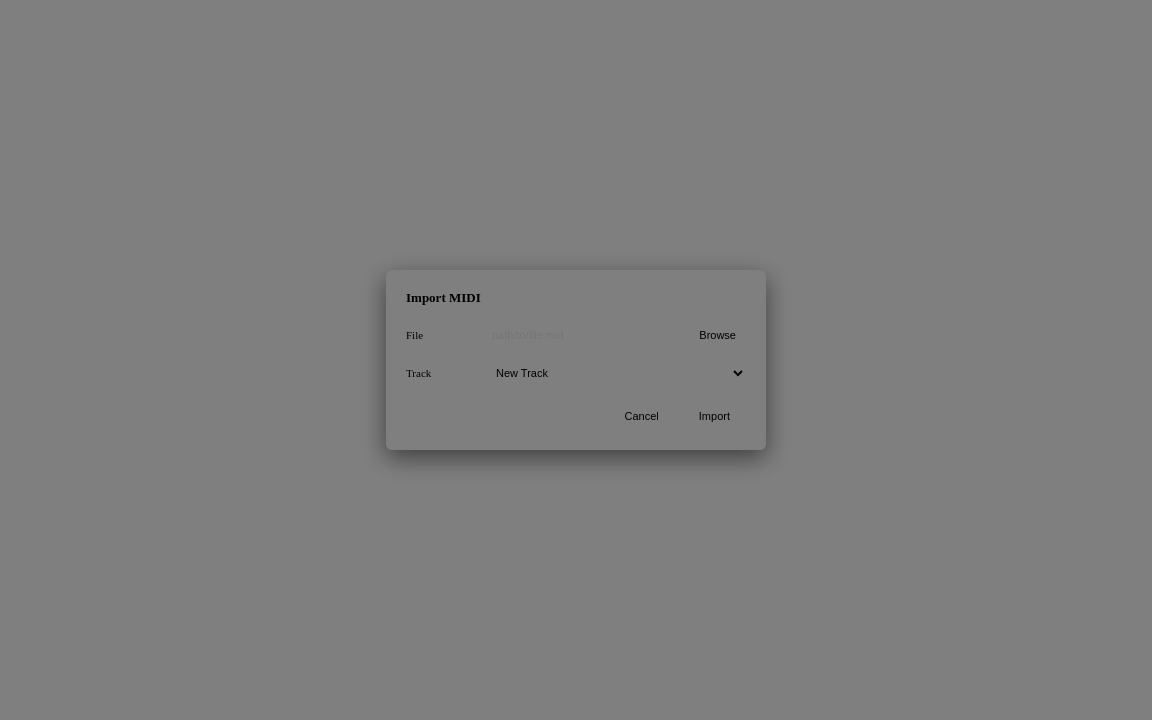
Test: ImportDialog › file browsing › Browse button opens prompt and sets path for midi
This screenshot has width=1152, height=720.
Click the button "Browse": (718, 335) [689, 322, 746, 348]
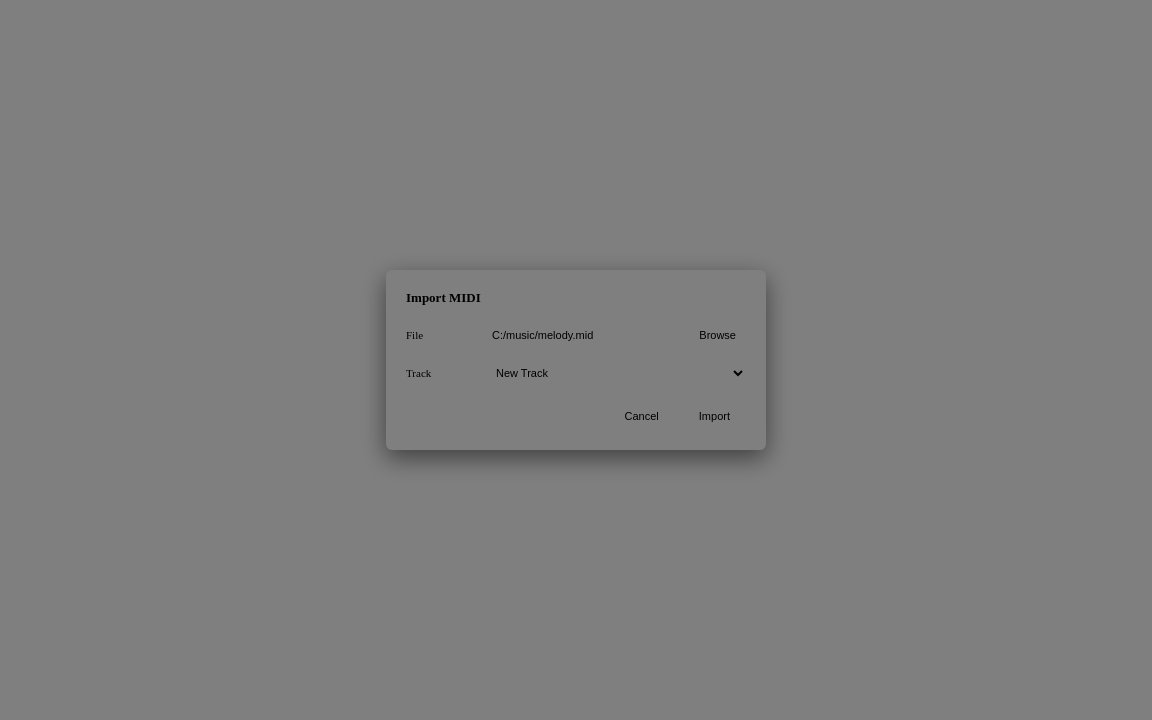
Result: the field with placeholder "path/to/file.mid" holds "C:/music/melody.mid" at [484, 322, 681, 348]
